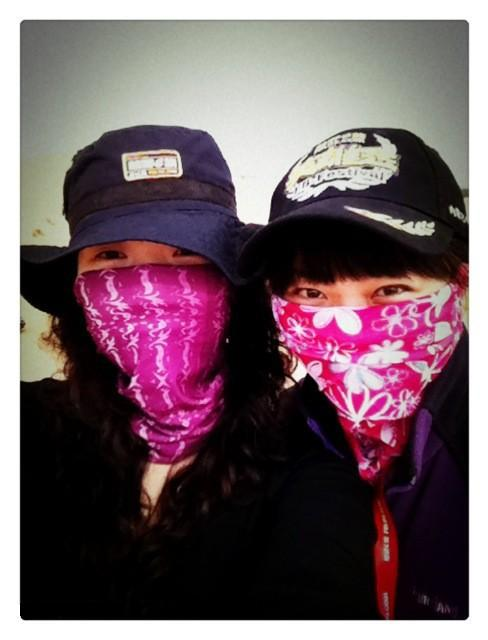OK: (71, 222, 233, 384), (276, 264, 448, 414)
